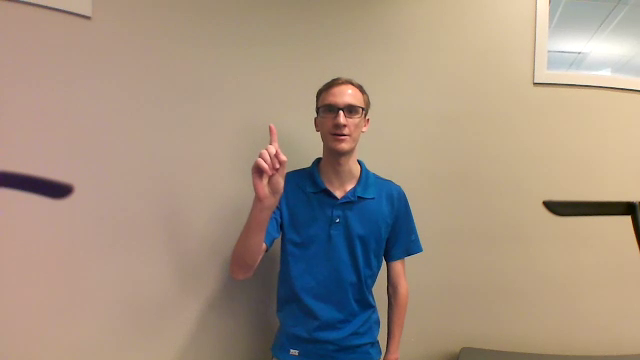up: (248, 118, 297, 211)
